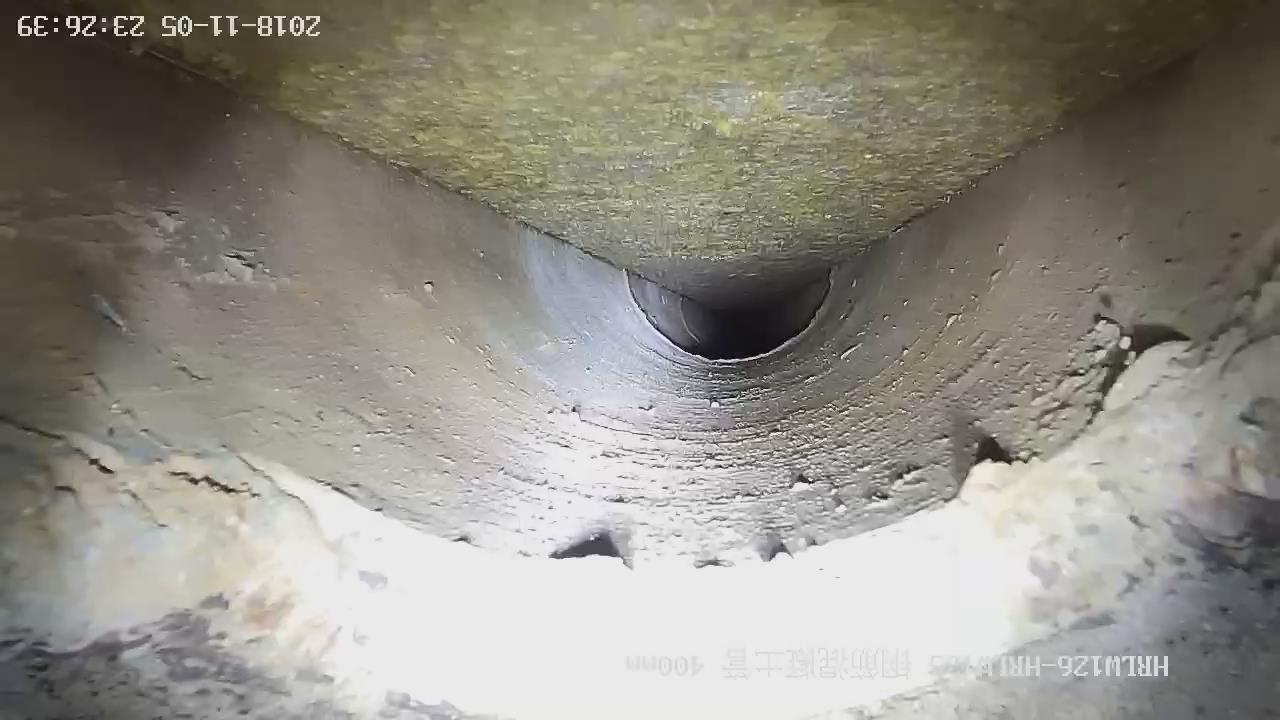FZ: (75, 1, 1239, 307)
